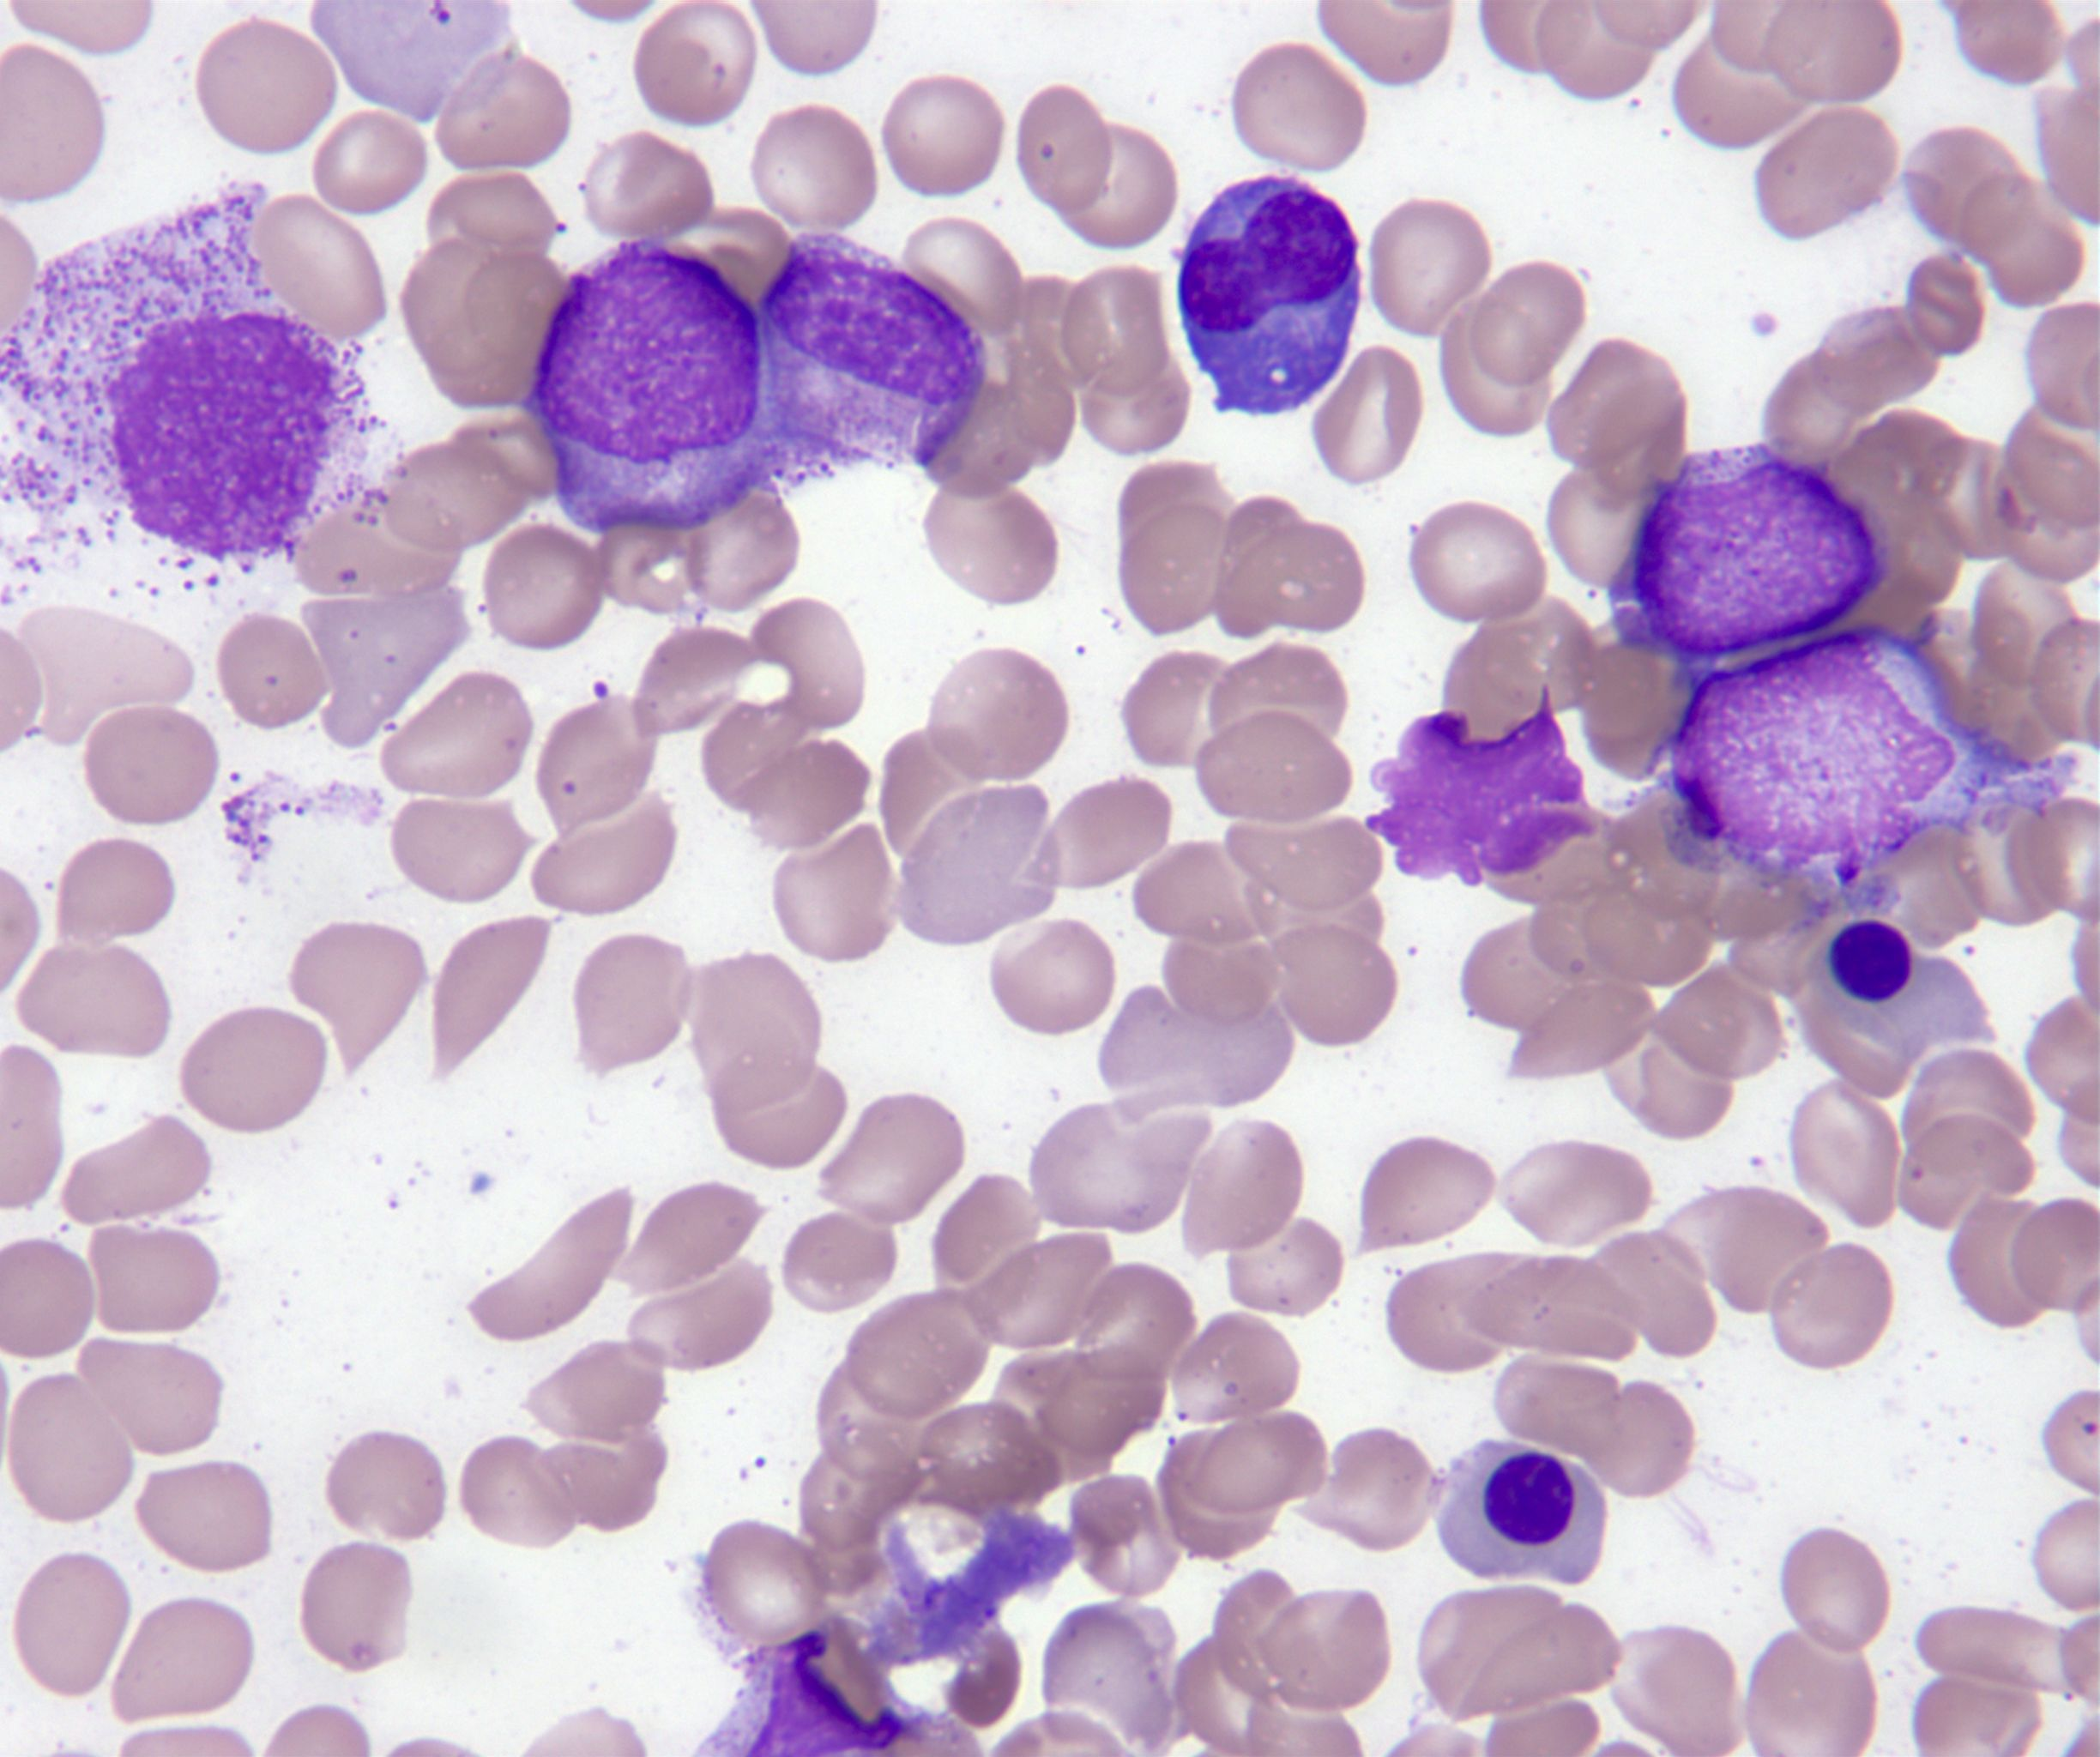2: (523, 243, 781, 532)
22: (1177, 176, 1357, 417)
24: (1807, 921, 1995, 1066), (1435, 1439, 1606, 1583)
3: (1606, 443, 1878, 663), (755, 234, 982, 483)
4: (1648, 628, 2081, 920)
x: (2, 180, 391, 578), (1366, 687, 1594, 890)
